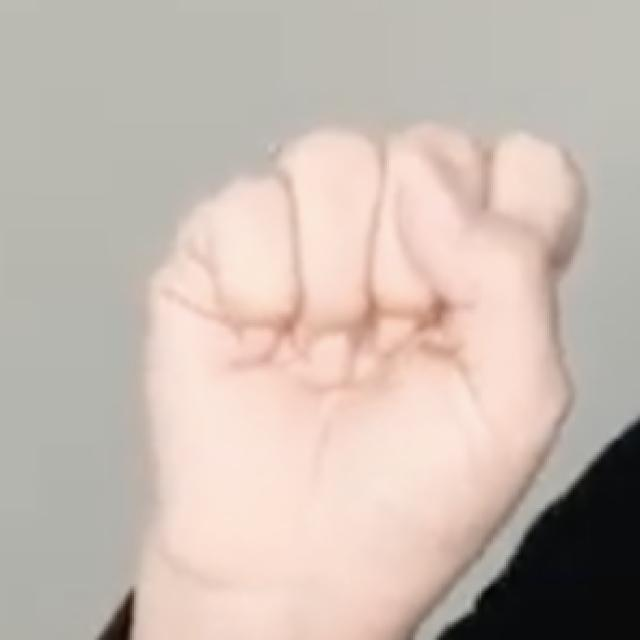S: (138, 109, 594, 619)
